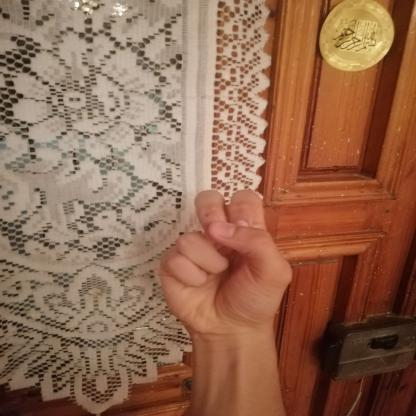QAAF: (139, 175, 311, 348)
